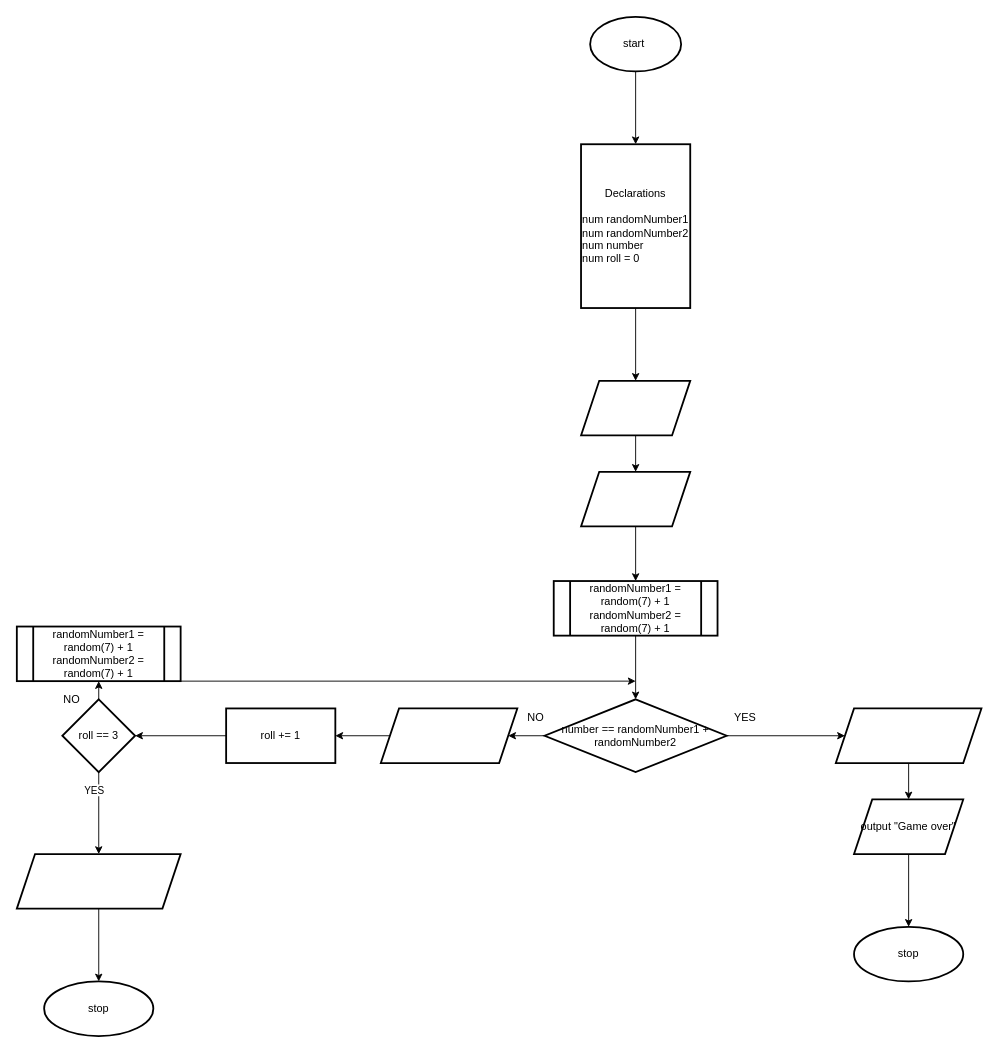
This 997x1052 diagram has some shape labels left out. Each missing label, with the centre of its shape:
input number: (635,498)
output "Enter a number between 2 and 12, you have 3 tries": (635,407)
output "Rolling again": (448,735)
output "You guessed correctly!": (908,735)
output "You lose, the computer wins": (98,881)
